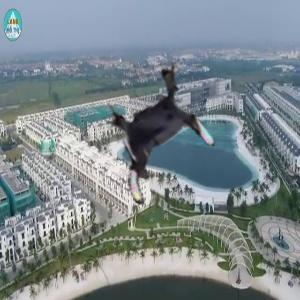drone: (93, 70, 221, 198)
